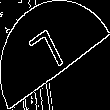L_SE: (33, 25, 77, 85)
